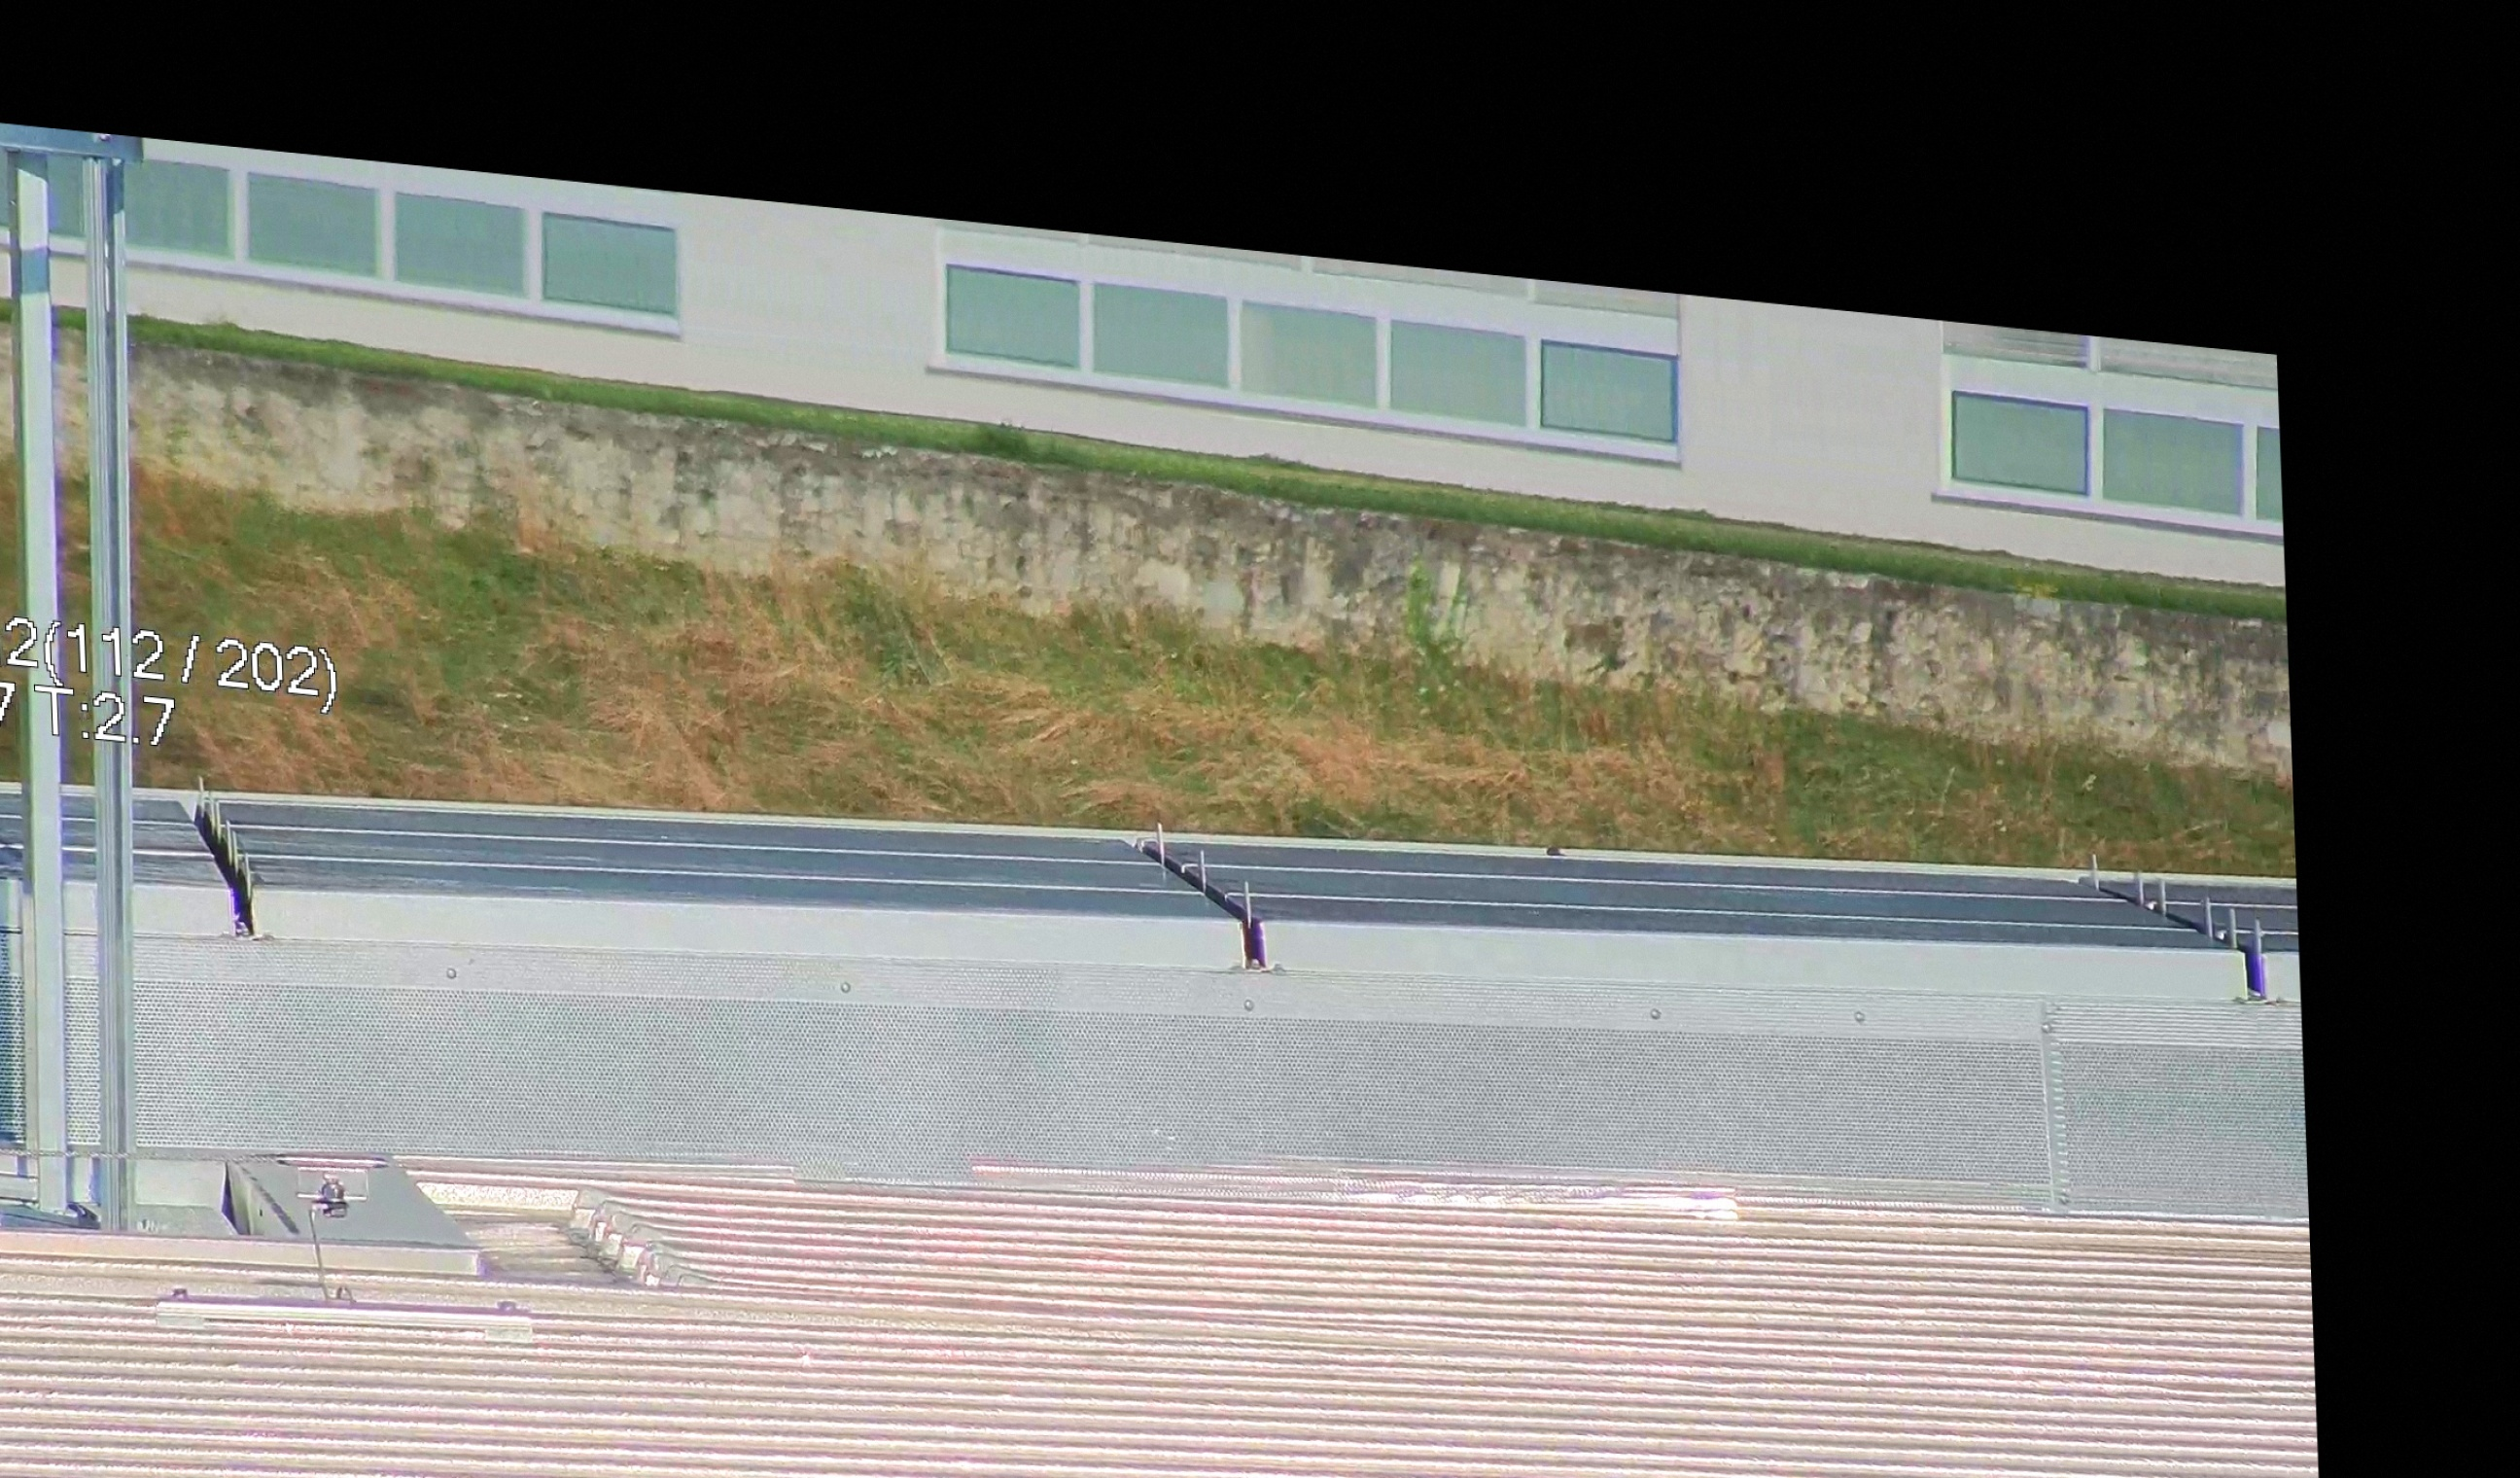Other: (158, 771, 255, 947)
